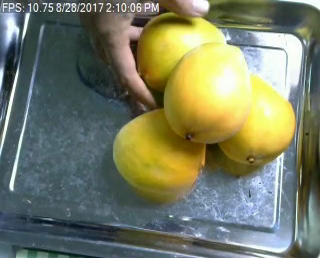Mango: (163, 42, 247, 141), (113, 104, 203, 190), (217, 72, 294, 164), (134, 12, 225, 86)
